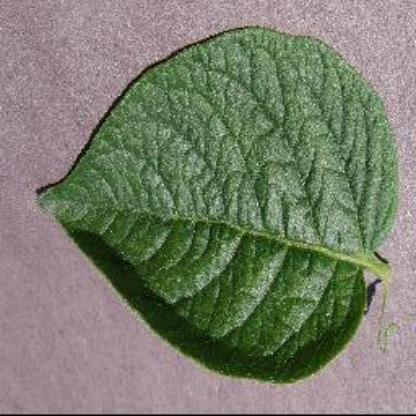Healthy-plant: (34, 25, 400, 388)
